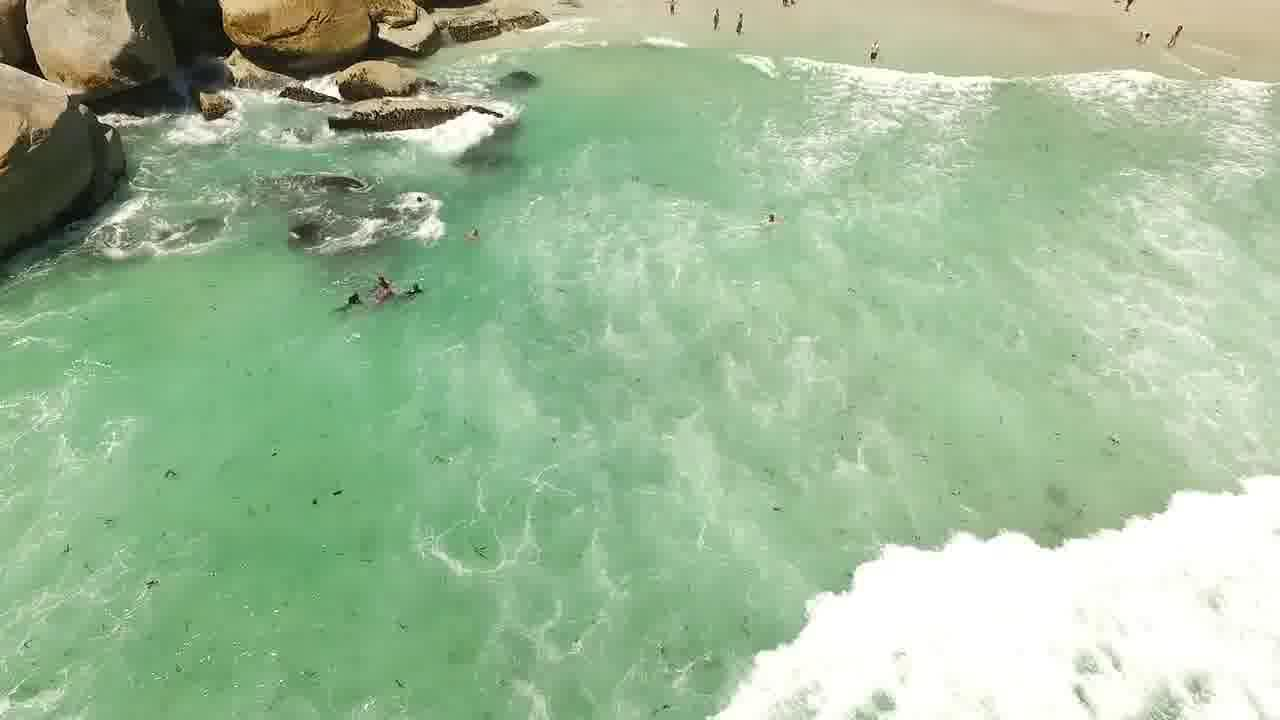swimmer: (331, 290, 371, 314), (403, 276, 431, 297), (370, 284, 398, 303), (460, 222, 483, 243)
